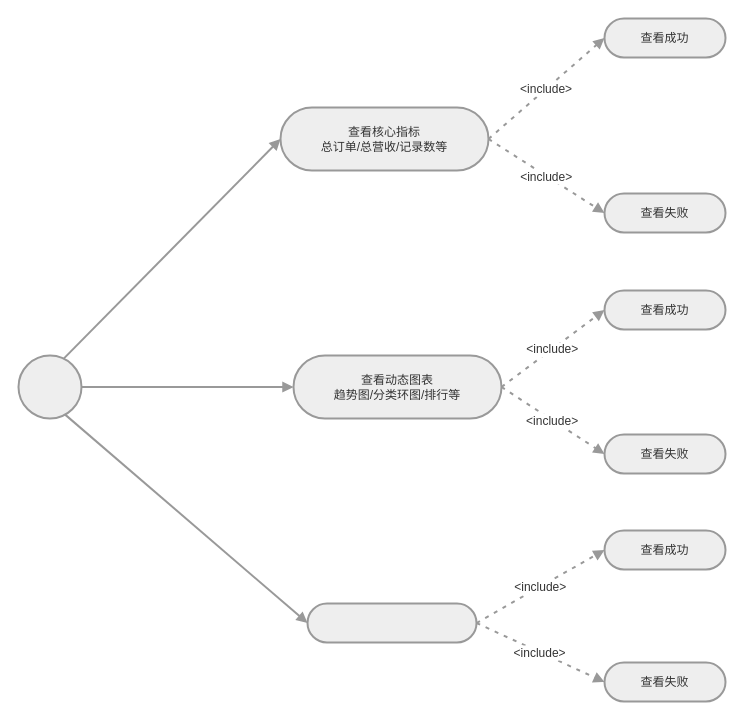
The diagram is 743 pixels wide and 719 high, and some of its shapes have lost their labels. The shapes that lost their labels are listed below. From the top down, each one's box as (x1, y1, x2, y2) in pixels, then its label:
(17, 354, 82, 419): 管理员
(306, 602, 477, 643): 查看风控告警时间线
